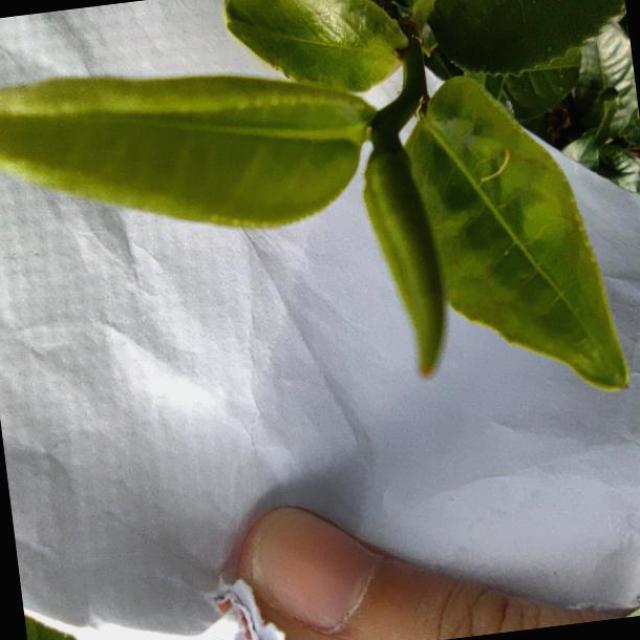Stem: (387, 105, 407, 125)
